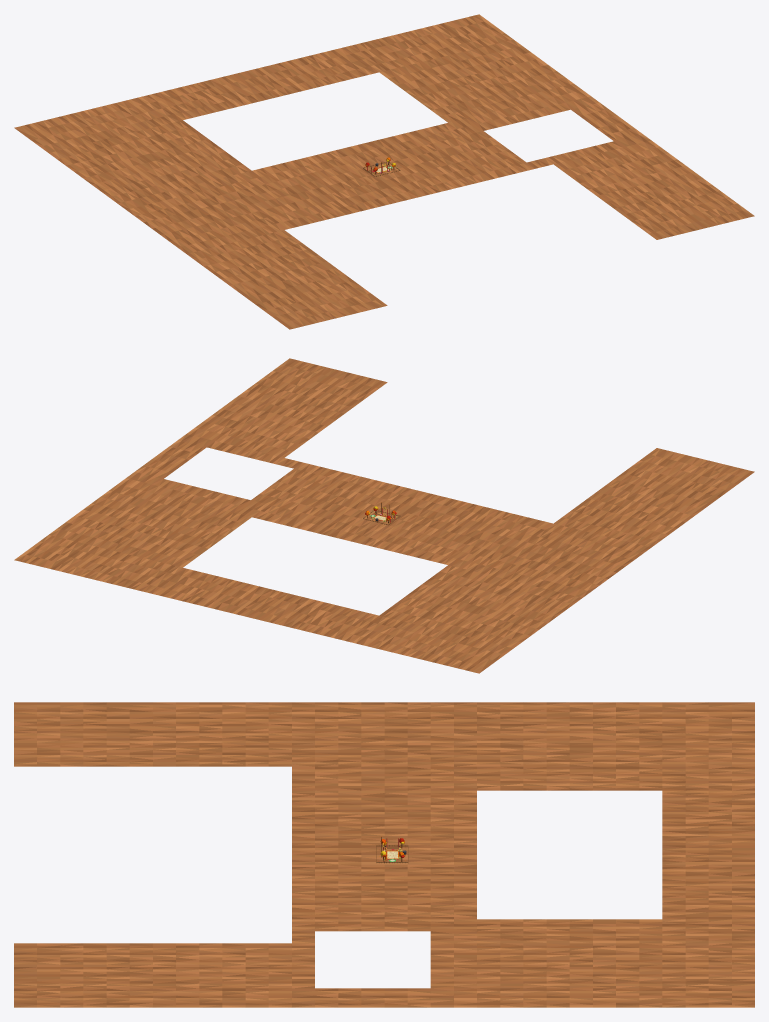
Rendered from TurkeyRace_LowPolyLobby.glb.
The picture shows the model from 3 angles, top to bottom: view 1: azimuth 30°, elevation 25°; view 2: azimuth 150°, elevation 25°; view 3: azimuth 270°, elevation 25°; orthographic projection. The views are drawn at different scales.
Parts seen in each view (by area): view 1: Lobby_Floor4, Lobby_Floor2, Lobby_Floor3, Lobby_Floor1; view 2: Lobby_Floor4, Lobby_Floor2, Lobby_Floor3, Lobby_Floor1; view 3: Lobby_Floor4, Lobby_Floor2, Lobby_Floor3, Lobby_Floor1.
Part boxes in pixels (<box>): Lobby_Floor4: <box>14,71,378,228</box>; Lobby_Floor2: <box>247,14,616,171</box>; Lobby_Floor3: <box>152,172,418,329</box>; Lobby_Floor1: <box>385,115,754,239</box>; Lobby_Floor4: <box>247,516,616,673</box>; Lobby_Floor2: <box>14,459,383,616</box>; Lobby_Floor3: <box>385,448,754,572</box>; Lobby_Floor1: <box>152,358,418,515</box>; Lobby_Floor4: <box>384,702,754,854</box>; Lobby_Floor2: <box>384,855,754,1007</box>; Lobby_Floor3: <box>14,702,384,854</box>; Lobby_Floor1: <box>14,855,384,1007</box>.
Bounding box in the file's own units: 2048 × 50.76 × 2102.
1 material, 1 textured.
